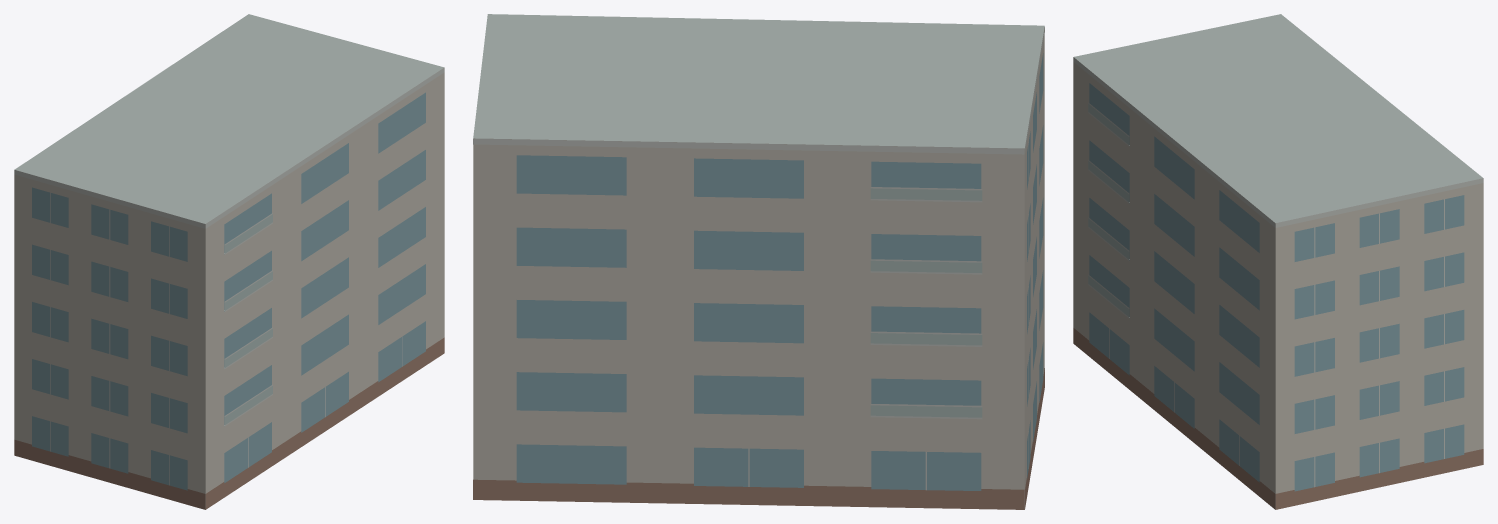
The model's file is survey-upis-32740898.glb.
The picture shows the model from 3 angles, left to right: view 1: azimuth 30°, elevation 25°; view 2: azimuth 150°, elevation 25°; view 3: azimuth 270°, elevation 25°; orthographic projection. The views are drawn at different scales.
Parts seen in each view (by area): view 1: survey-upis-32740898.tmp; view 2: survey-upis-32740898.tmp; view 3: survey-upis-32740898.tmp.
Part boxes in pixels (bbox=[...]): survey-upis-32740898.tmp: bbox=[14, 14, 444, 509]; survey-upis-32740898.tmp: bbox=[473, 14, 1044, 509]; survey-upis-32740898.tmp: bbox=[1073, 14, 1483, 509].
Size of the model in its own units: 22.62 by 14.45 by 18.74.
